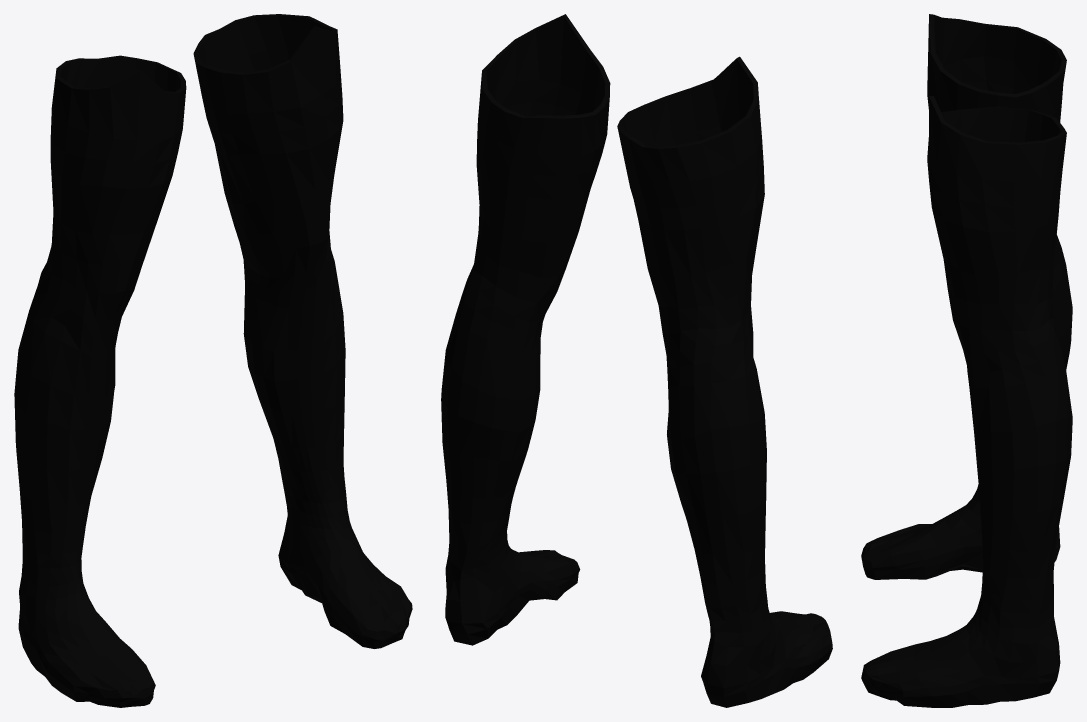
The model's file is mhw_culturalibre_heroine_boots_1.glb.
3 views of the same model, side by side, from view 1: azimuth 30°, elevation 25°; view 2: azimuth 150°, elevation 25°; view 3: azimuth 270°, elevation 25° (orthographic). The views are drawn at different scales.
Parts seen in each view (by area): view 1: mhw_culturalibre_heroine_boots_1; view 2: mhw_culturalibre_heroine_boots_1; view 3: mhw_culturalibre_heroine_boots_1.
Boxes of the visible parts, bbox=[...] form: mhw_culturalibre_heroine_boots_1: bbox=[14, 14, 412, 707]; mhw_culturalibre_heroine_boots_1: bbox=[441, 14, 832, 707]; mhw_culturalibre_heroine_boots_1: bbox=[861, 14, 1072, 707].
Size of the model in its own units: 0.549 by 0.9245 by 0.3076.
Materials: 1 (1 with a texture image).
